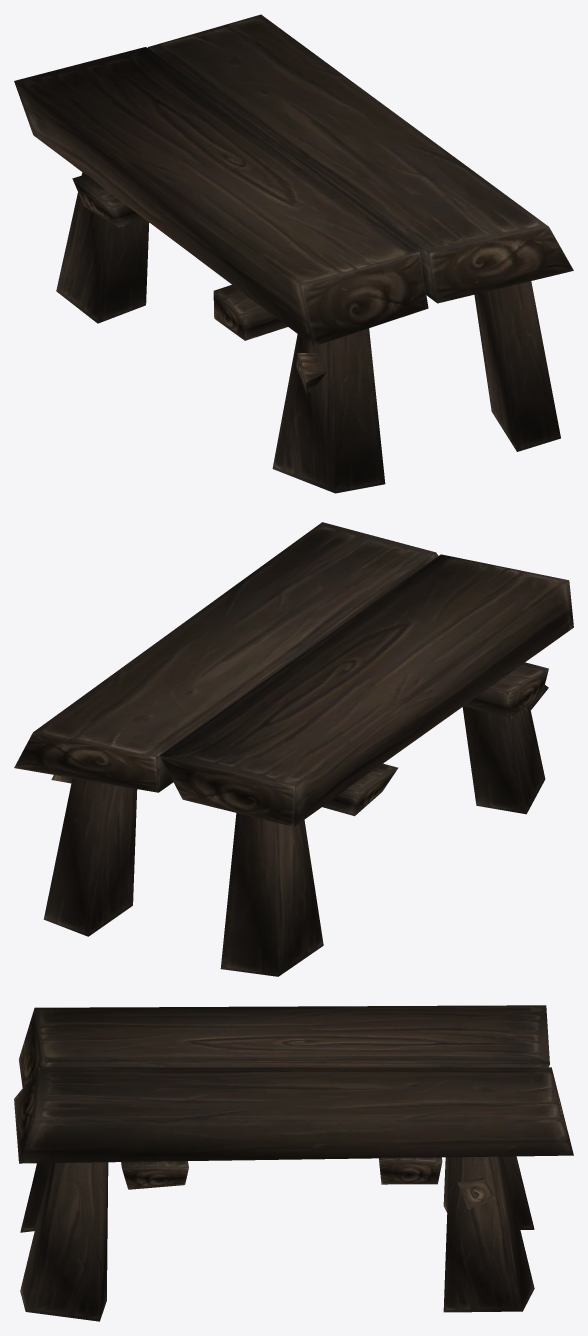
3 renders of one model, top to bottom at view 1: azimuth 30°, elevation 25°; view 2: azimuth 150°, elevation 25°; view 3: azimuth 270°, elevation 25°, orthographic. The views are drawn at different scales.
Bounding box in the file's own units: 1.78 × 1.2 × 3.19.
1 material, 1 textured.
